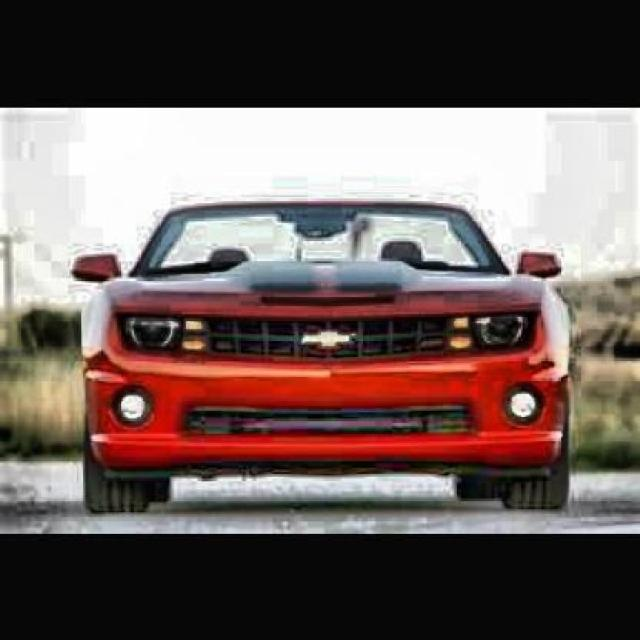red: (77, 170, 640, 468)
